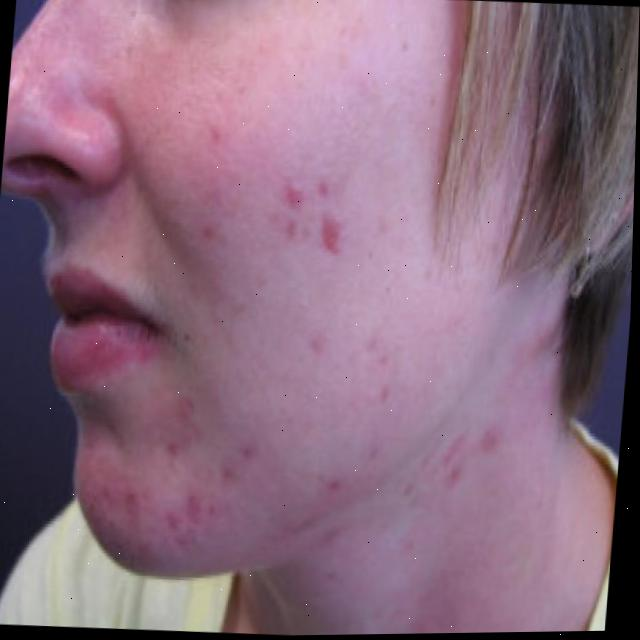Acne: (82, 431, 379, 591), (181, 104, 381, 286)
